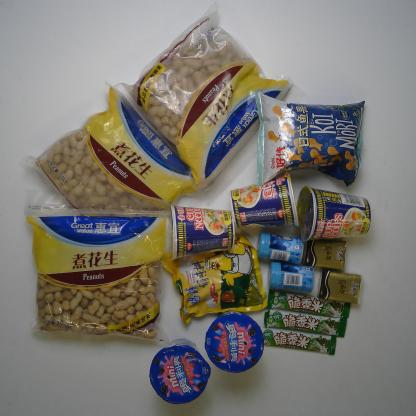Chocolate: (267, 286, 352, 320), (263, 306, 347, 339), (262, 328, 338, 356)
Dessert: (148, 339, 212, 405), (205, 310, 265, 374)
Dried Food: (117, 4, 298, 191), (20, 83, 196, 245), (23, 201, 169, 344)
Gum: (267, 260, 316, 294), (256, 230, 305, 264)
Instant Noodles: (294, 185, 372, 242), (164, 202, 236, 260), (228, 172, 298, 230)
Puffed Food: (253, 90, 365, 188)
Seasoner: (167, 234, 268, 324)
Tissue: (316, 267, 364, 305), (303, 236, 349, 271)
